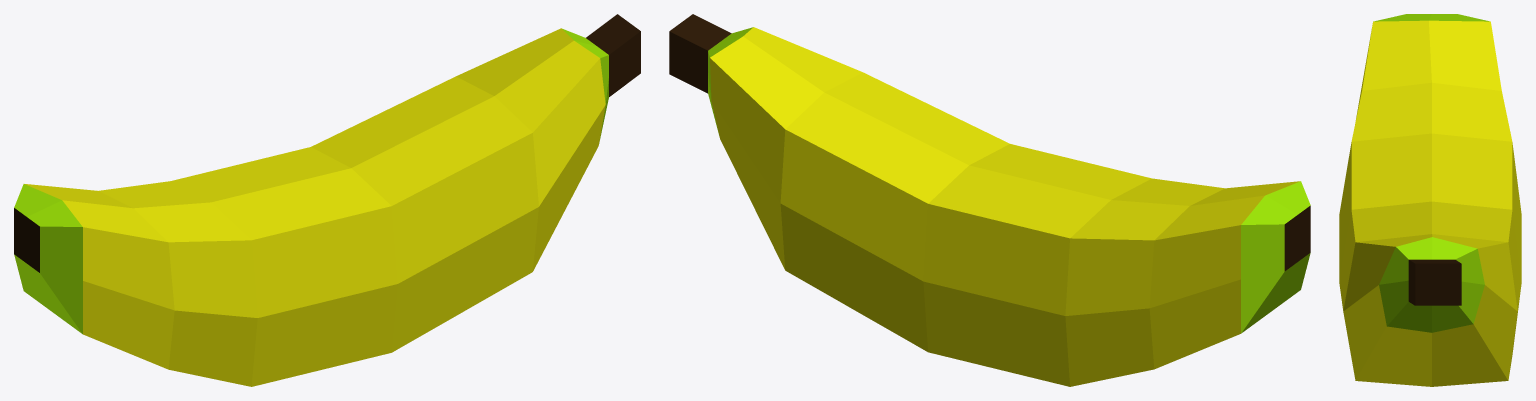
The model's file is banana.fbx.
The picture shows the model from 3 angles, left to right: view 1: azimuth 30°, elevation 25°; view 2: azimuth 150°, elevation 25°; view 3: azimuth 270°, elevation 25°; orthographic projection.
Visible parts, largest first — view 1: Cube; view 2: Cube; view 3: Cube.
Boxes of the visible parts, <box> form: Cube: <box>14,14,640,386</box>; Cube: <box>669,14,1310,386</box>; Cube: <box>1339,14,1521,386</box>.
Size of the model in its own units: 864 by 321 by 227.
